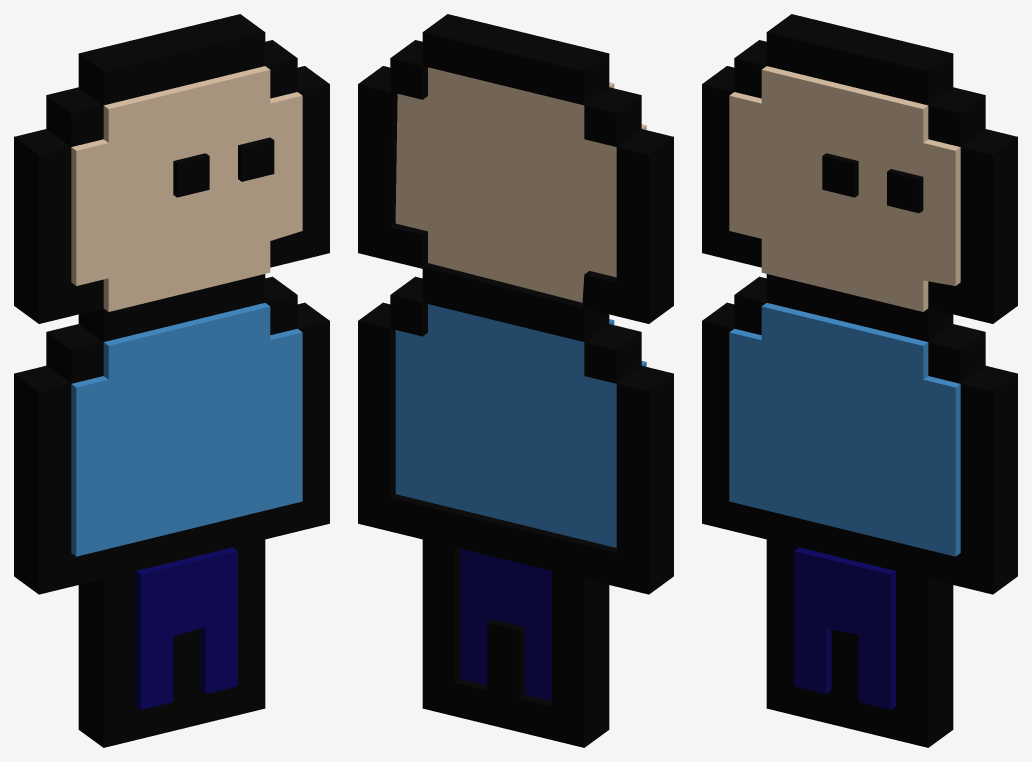
Rendered from PVC.fbx.
3 views of the same model, side by side, from view 1: azimuth 30°, elevation 25°; view 2: azimuth 150°, elevation 25°; view 3: azimuth 330°, elevation 25° (orthographic).
Visible parts, largest first — view 1: PVC; view 2: PVC; view 3: PVC.
Boxes of the visible parts, x1,y1,x2,y2 form: PVC: [14, 14, 329, 747]; PVC: [358, 14, 673, 747]; PVC: [702, 14, 1017, 747].
Bounding box in the file's own units: 135 × 300 × 27.19.
